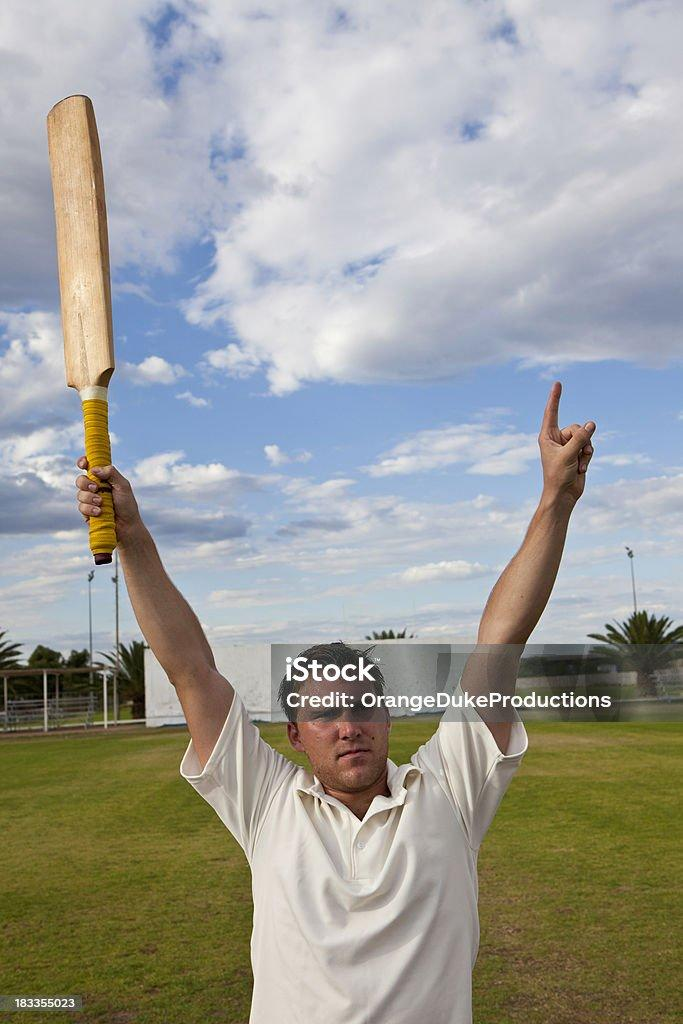batsman: (42, 333, 646, 1020)
